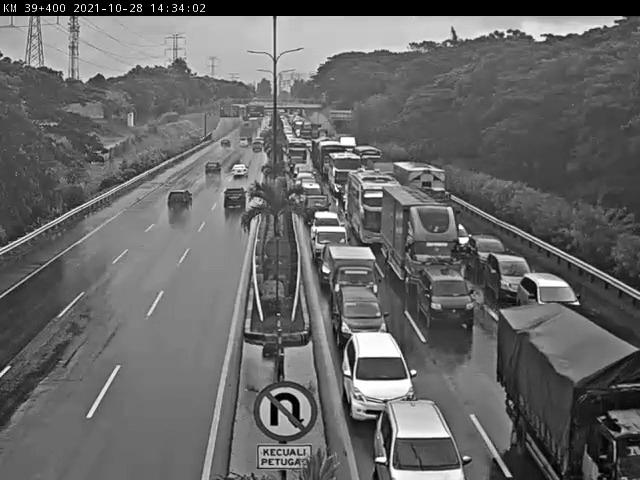big bus: (348, 171, 401, 247), (322, 151, 362, 193)
big truck: (484, 305, 640, 480), (380, 185, 459, 295), (392, 159, 456, 213)
car: (367, 384, 463, 479), (334, 322, 409, 404), (416, 262, 472, 328), (322, 246, 384, 304), (327, 286, 389, 343), (488, 254, 533, 301), (520, 273, 580, 307), (309, 222, 350, 264), (466, 235, 508, 270), (298, 194, 330, 224), (165, 189, 195, 215), (447, 220, 470, 251), (219, 190, 246, 215), (296, 178, 320, 199), (312, 208, 340, 226), (199, 165, 218, 186), (227, 168, 249, 184), (216, 136, 233, 152), (294, 167, 312, 182), (235, 139, 250, 155), (251, 141, 264, 157)
